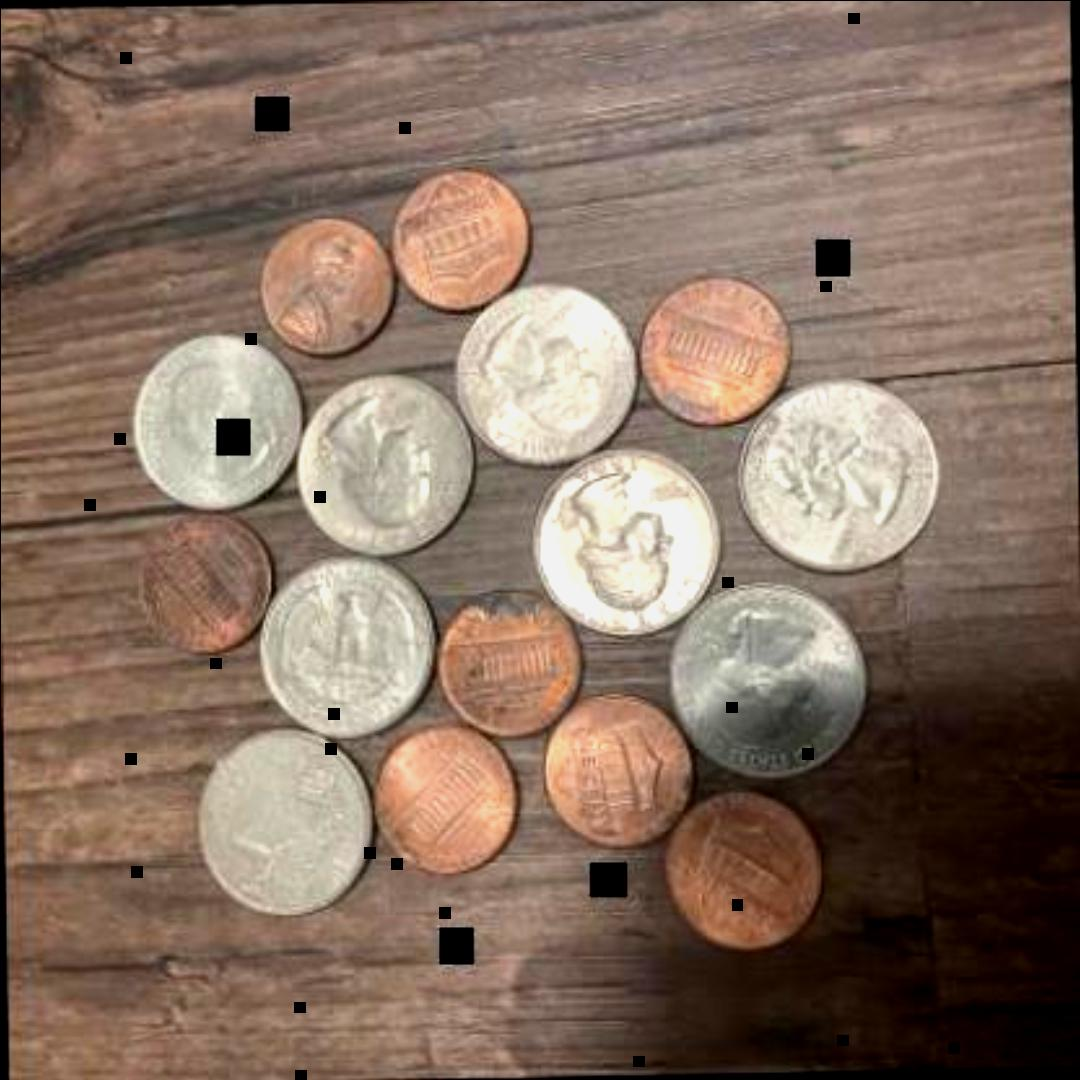Penny: (663, 791, 821, 951), (434, 583, 588, 743), (635, 276, 795, 429), (542, 688, 688, 854), (388, 166, 536, 320), (374, 724, 520, 879), (134, 510, 270, 658), (254, 217, 392, 359)
Quarter: (664, 578, 868, 788), (734, 376, 940, 580), (528, 447, 718, 641), (193, 724, 372, 923), (256, 556, 444, 744), (449, 286, 638, 470), (298, 374, 470, 564), (128, 338, 307, 514)
